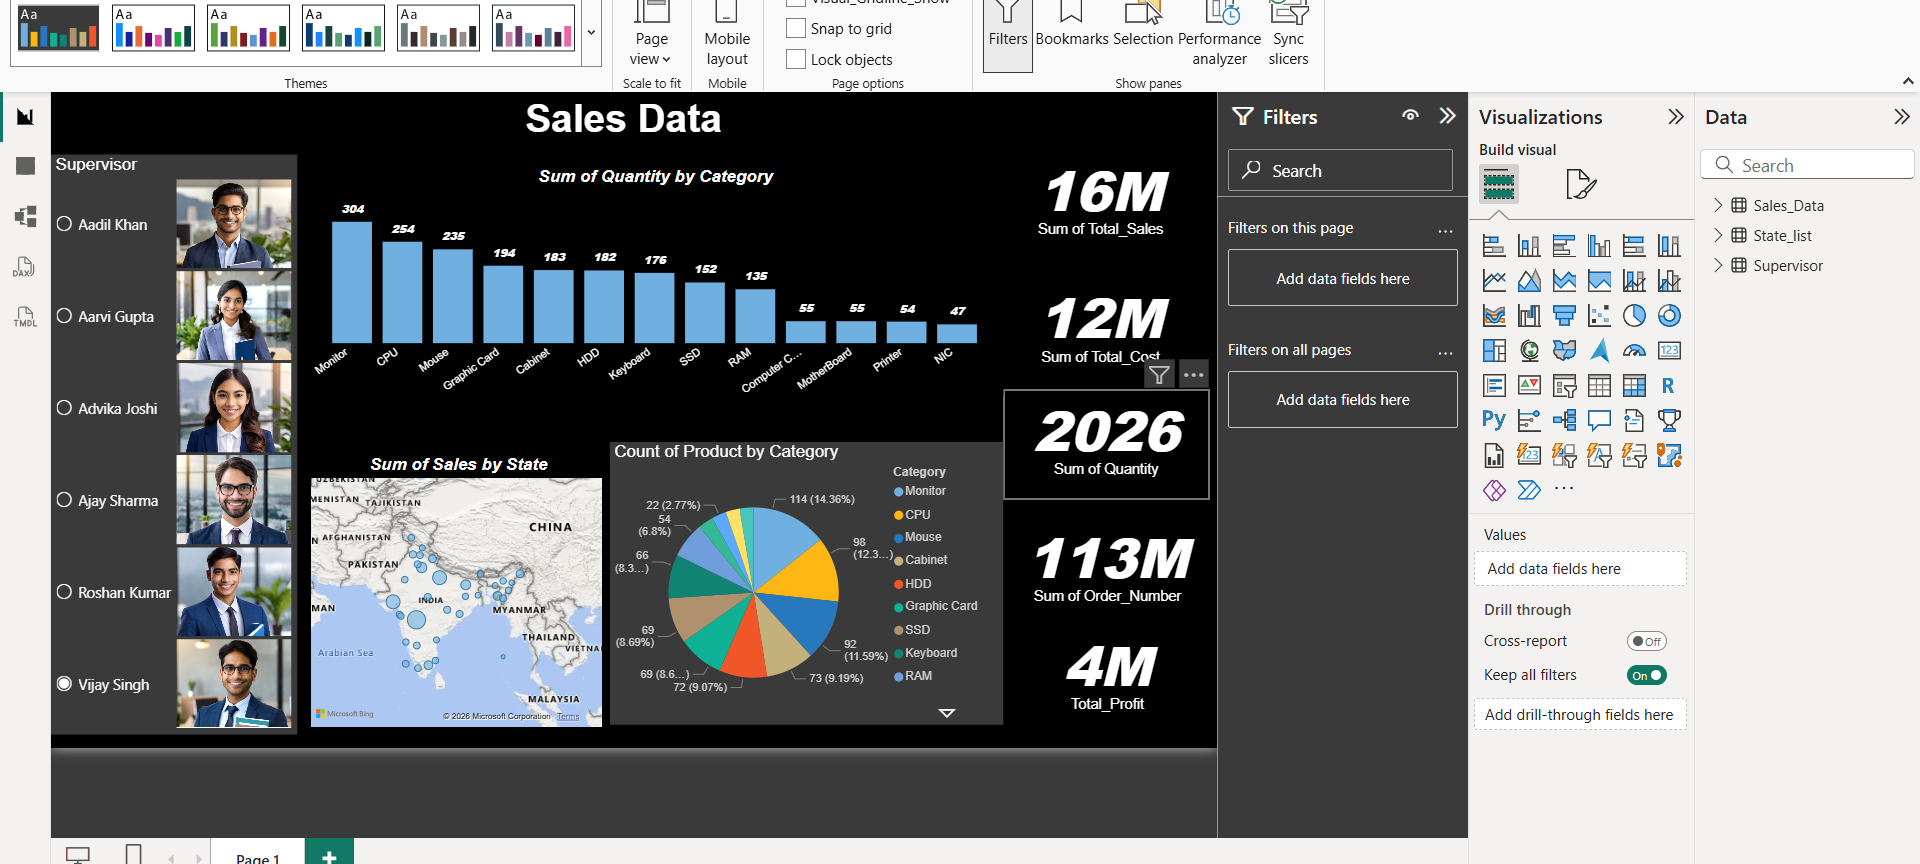

This screenshot's page, from the dashboard's own definition file:
{"tool":"powerbi","page":{"name":"Page 1","canvas":[1280,720],"ordinal":0},"visuals":[{"type":"card","fields":{"Values":["Sum(Sales_Data.Total_Sales)"]},"box":[1045.6,63.1,214.1,120.8],"z":0},{"type":"card","fields":{"Values":["Sum(Sales_Data.Total_Cost)"]},"box":[1045.6,203.1,214.1,120.8],"z":1000},{"type":"card","fields":{"Values":["Sum(Sales_Data.Quantity)"]},"box":[1045.6,326.6,226.4,120.8],"z":2000},{"type":"card","fields":{"Values":["Sum(Sales_Data.Order_Number)"]},"box":[1047,467.9,226.4,116.6],"z":3000},{"type":"card","fields":{"Values":["Sales_Data.Total_Profit"]},"box":[1047,584.6,226.4,120.8],"z":4000},{"type":"clusteredColumnChart","fields":{"Y":["Sum(Sales_Data.Quantity)"],"Category":["Sales_Data.Category"]},"box":[279.9,68.6,765.7,290.9],"z":5000},{"type":"pieChart","fields":{"Y":["CountNonNull(Sales_Data.Product)"],"Category":["Sales_Data.Category"]},"box":[613.4,384.2,432.2,310.1],"z":6000},{"type":"map","fields":{"Category":["State_list.State"],"Size":["Sum(Sales_Data.Sales)"]},"box":[279.9,384.2,333.4,336.2],"z":7000},{"type":"listSlicer","fields":{"Values":["Supervisor.Supervisor"]},"box":[0,68.6,270.3,636.7],"z":8001},{"type":"textbox","box":[123.5,0,1010,63.1],"z":8002}]}

Visuals, with their boxes on the page's 1280x720 design canvas (x1, y1, x2, y2). These are canvas units, not pixel positions in the 1920x864 screenshot, which may show the page scaled, cropped or inside an application window:
card - Sum(Sales_Data.Total_Sales): {"left": 1046, "top": 63, "right": 1260, "bottom": 184}
card - Sum(Sales_Data.Total_Cost): {"left": 1046, "top": 203, "right": 1260, "bottom": 324}
card - Sum(Sales_Data.Quantity): {"left": 1046, "top": 327, "right": 1272, "bottom": 447}
card - Sum(Sales_Data.Order_Number): {"left": 1047, "top": 468, "right": 1273, "bottom": 584}
card - Sales_Data.Total_Profit: {"left": 1047, "top": 585, "right": 1273, "bottom": 705}
clusteredColumnChart - Sum(Sales_Data.Quantity) x Sales_Data.Category: {"left": 280, "top": 69, "right": 1046, "bottom": 360}
pieChart - CountNonNull(Sales_Data.Product) x Sales_Data.Category: {"left": 613, "top": 384, "right": 1046, "bottom": 694}
map - State_list.State x Sum(Sales_Data.Sales): {"left": 280, "top": 384, "right": 613, "bottom": 720}
listSlicer - Supervisor.Supervisor: {"left": 0, "top": 69, "right": 270, "bottom": 705}
textbox: {"left": 124, "top": 0, "right": 1134, "bottom": 63}
